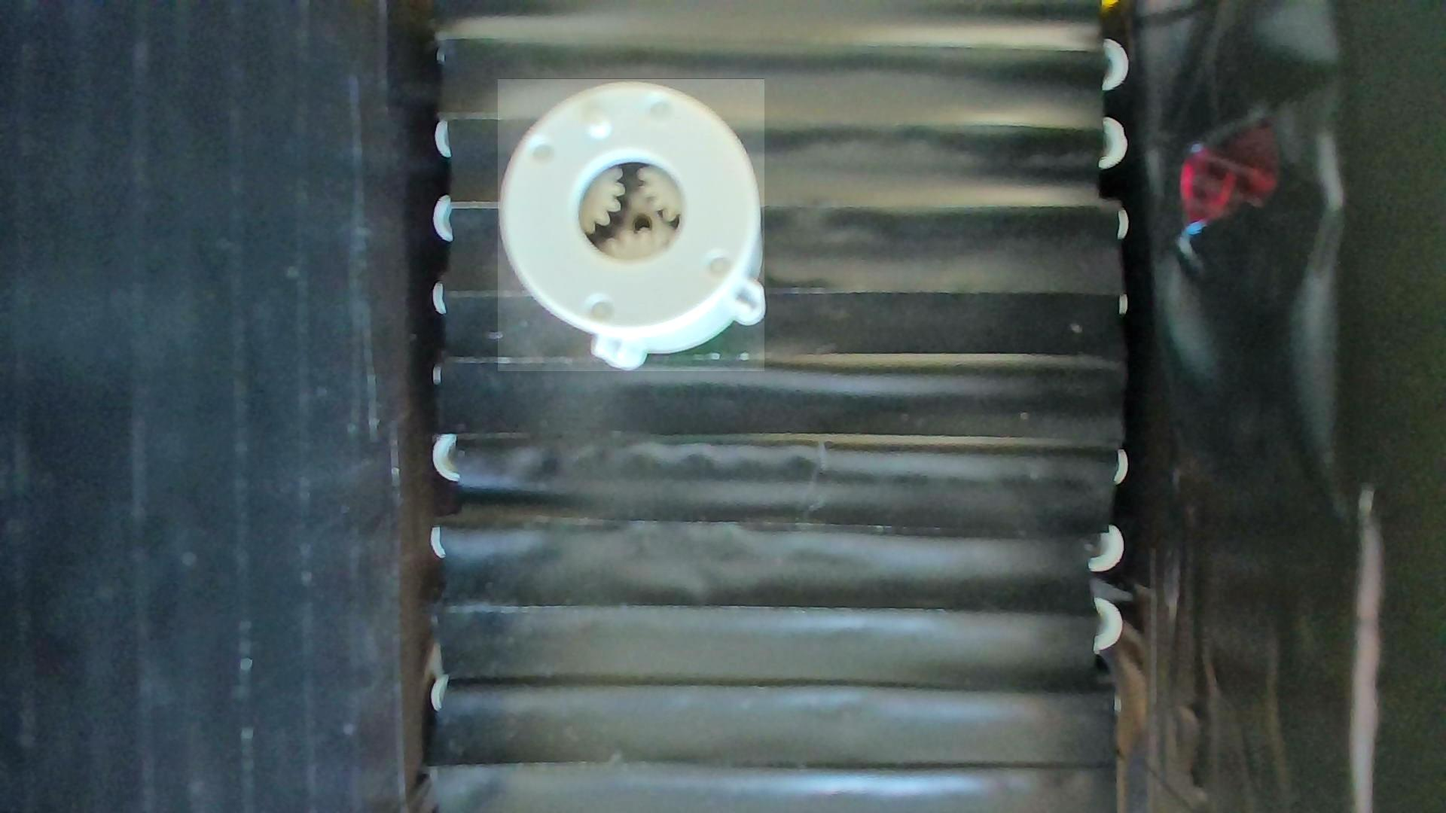cartridge: (498, 78, 764, 371)
